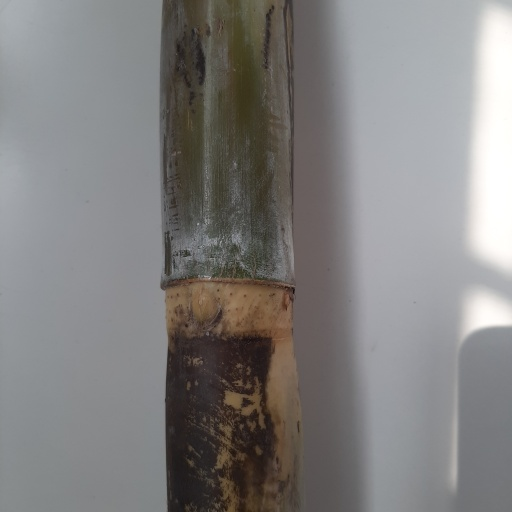Bud: (187, 288, 222, 330)
